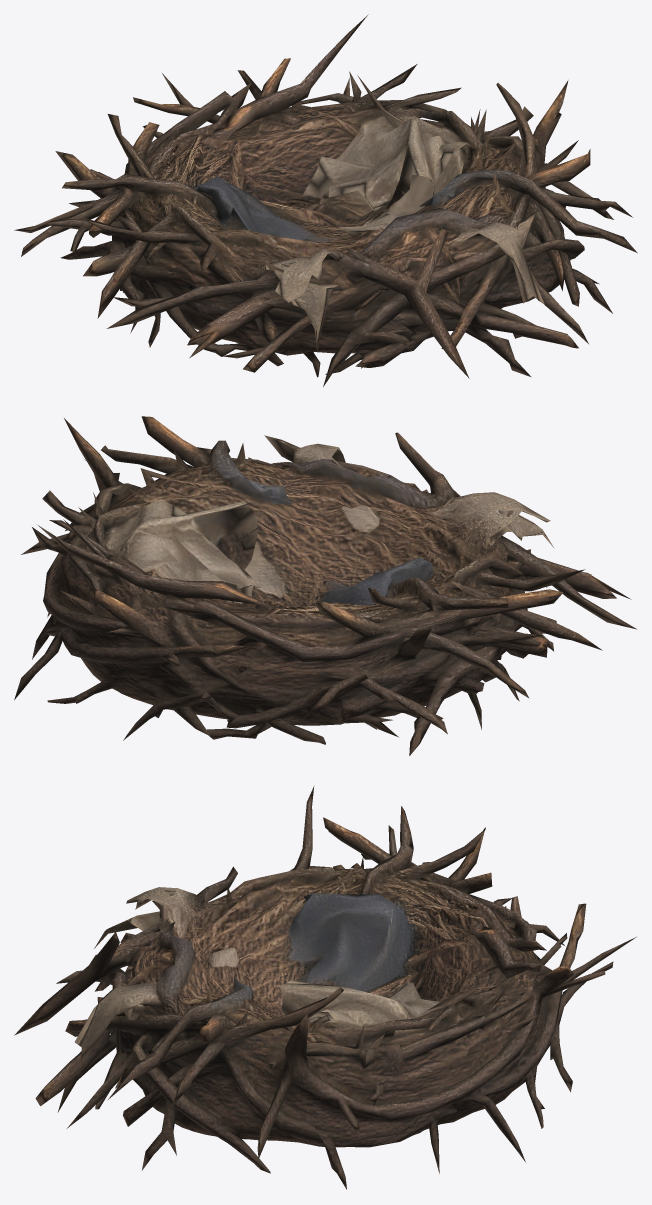
File: nest.glb
3 views of the same model, one above another, from view 1: azimuth 30°, elevation 25°; view 2: azimuth 150°, elevation 25°; view 3: azimuth 270°, elevation 25° (orthographic). The views are drawn at different scales.
Parts seen in each view (by area): view 1: tripo_node_f14b64c4-f94b-43fa-bdd4-070f5fda5ab5; view 2: tripo_node_f14b64c4-f94b-43fa-bdd4-070f5fda5ab5; view 3: tripo_node_f14b64c4-f94b-43fa-bdd4-070f5fda5ab5.
Part boxes in pixels (box(x1,y1,x2,y2)): tripo_node_f14b64c4-f94b-43fa-bdd4-070f5fda5ab5: box(14, 14, 637, 386); tripo_node_f14b64c4-f94b-43fa-bdd4-070f5fda5ab5: box(14, 416, 637, 755); tripo_node_f14b64c4-f94b-43fa-bdd4-070f5fda5ab5: box(14, 786, 636, 1189).
Size of the model in its own units: 1.21 by 0.3912 by 1.2.
1 material, 1 textured.
